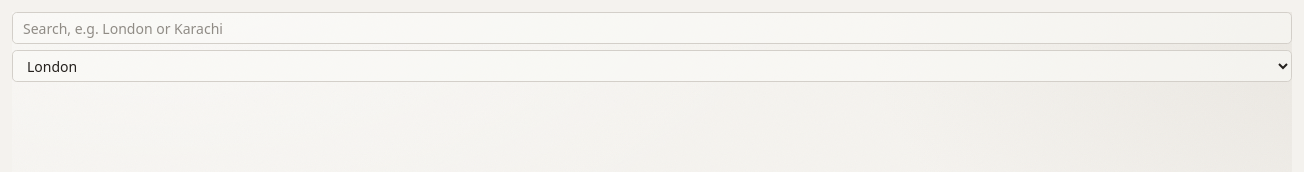
Test: timezone select › narrows the options as you type, picks the first on Enter, and restores on clear
Later steps or results of the test are not shown.
Type "KARA" into the search field named "Search timezones" at x=652, y=28, box 12,12 -> 1292,44
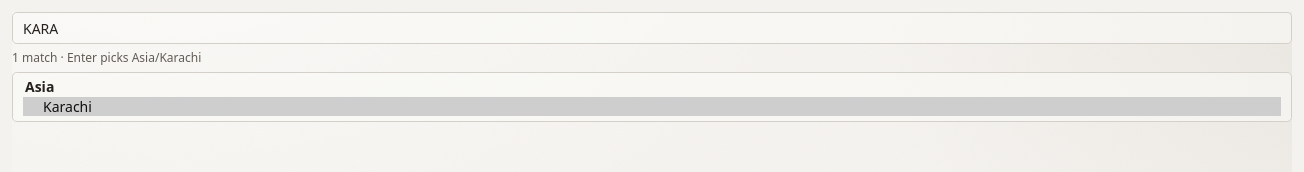
Expected: the text "1 match · Enter picks Asia/Karachi" is shown, 12,49 -> 201,66
